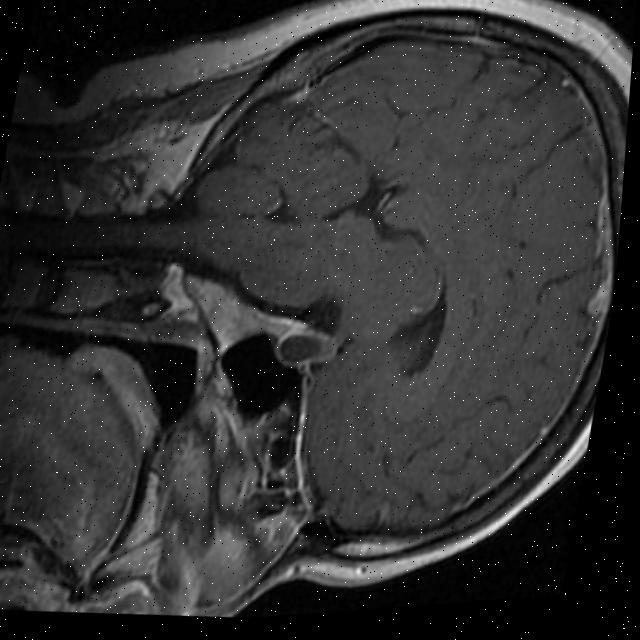Pituitary: (270, 321, 341, 372)
